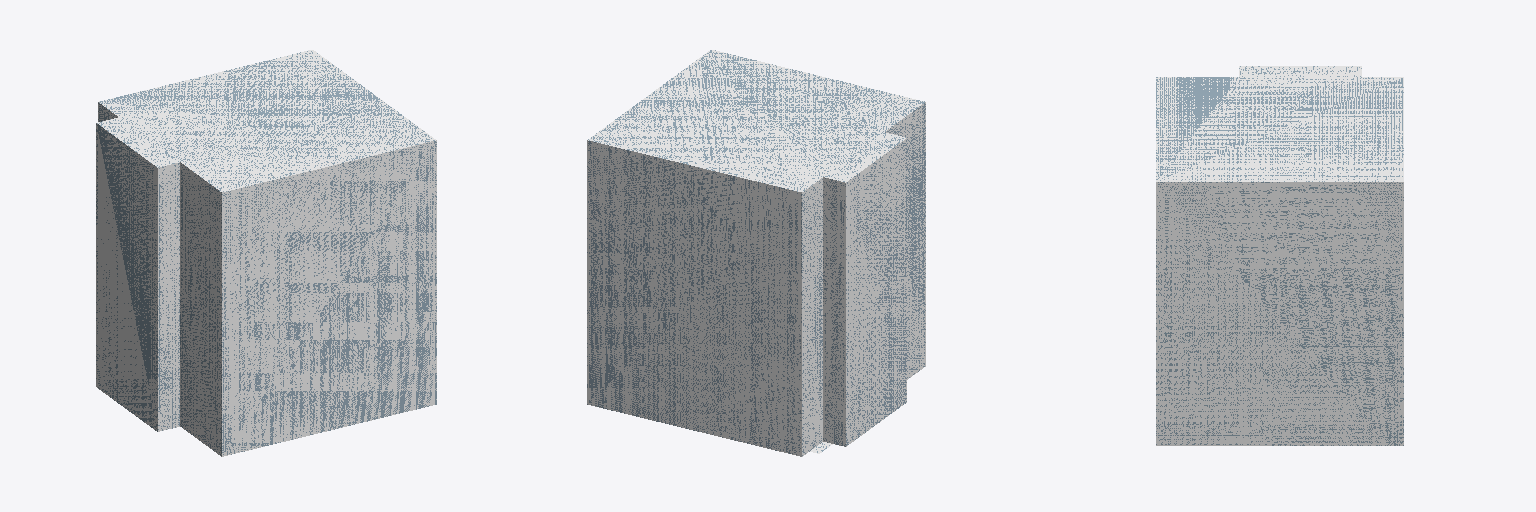
File: Walls3.obj
3 renders of one model, left to right at view 1: azimuth 30°, elevation 25°; view 2: azimuth 150°, elevation 25°; view 3: azimuth 270°, elevation 25°, orthographic.
Parts seen in each view (by area): view 1: Mesh1 Walls3_1 Model; view 2: Mesh1 Walls3_1 Model; view 3: Mesh1 Walls3_1 Model.
Boxes of the visible parts, box(x1,y1,x2,y2) form: Mesh1 Walls3_1 Model: box(96, 50, 436, 456); Mesh1 Walls3_1 Model: box(587, 50, 925, 456); Mesh1 Walls3_1 Model: box(1156, 66, 1403, 445).
Bounding box in the file's own units: 1.88 × 2 × 1.7.